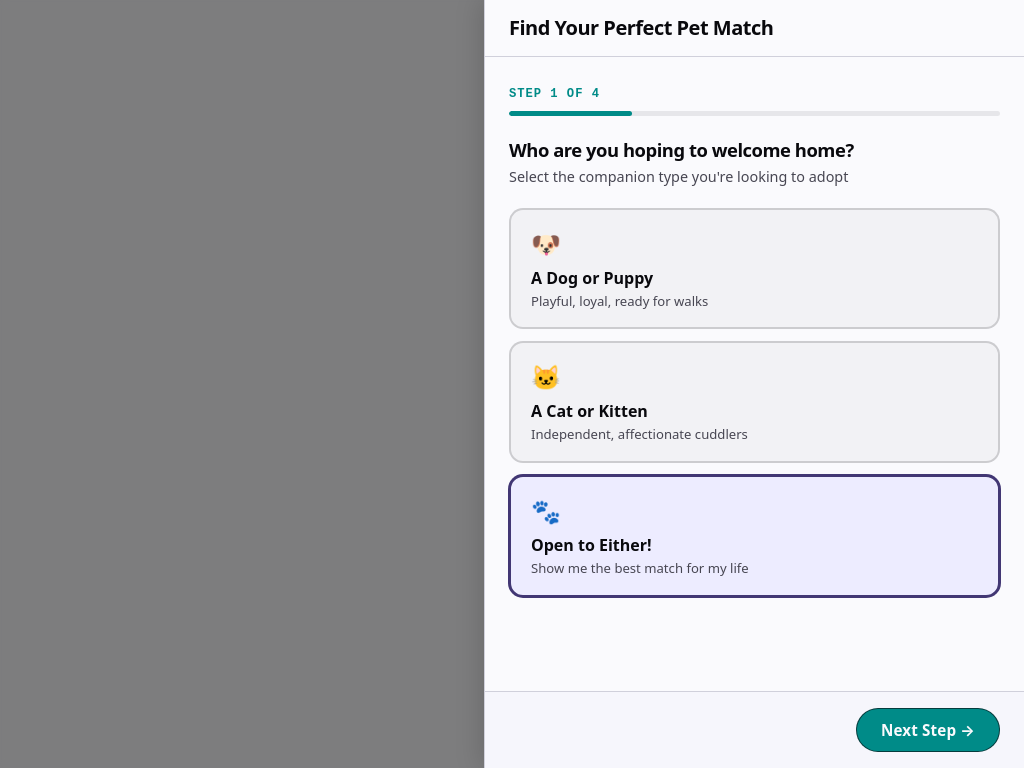
Test: PetMatcherDrawer.vue › navigates through steps on next button click
What coordinates should you click on to do the following:
click the button "Next Step →"
I would click on:
 (928, 730)
Its box is [856,708,1000,752].
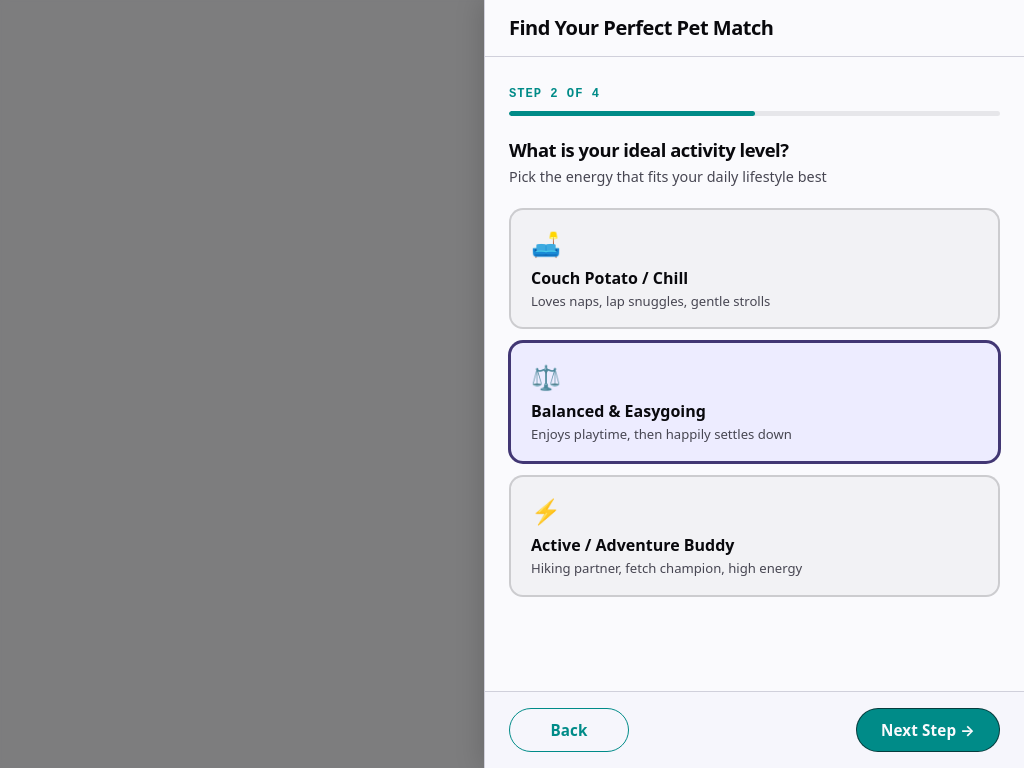
Now the text "Step 2 of 4" is shown, box [509,87,600,101]
Now the text "Couch Potato / Chill" is shown, box [531,266,688,290]
